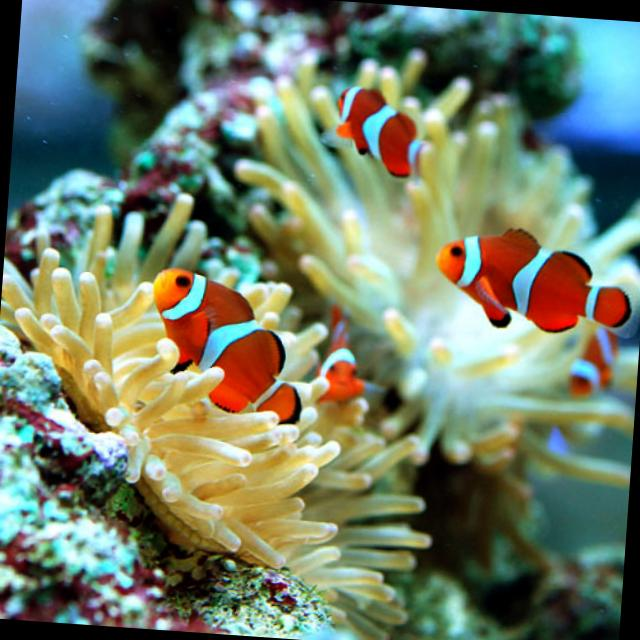ClownFish: (138, 267, 308, 434), (435, 220, 637, 338), (328, 79, 423, 187), (321, 306, 368, 412)
